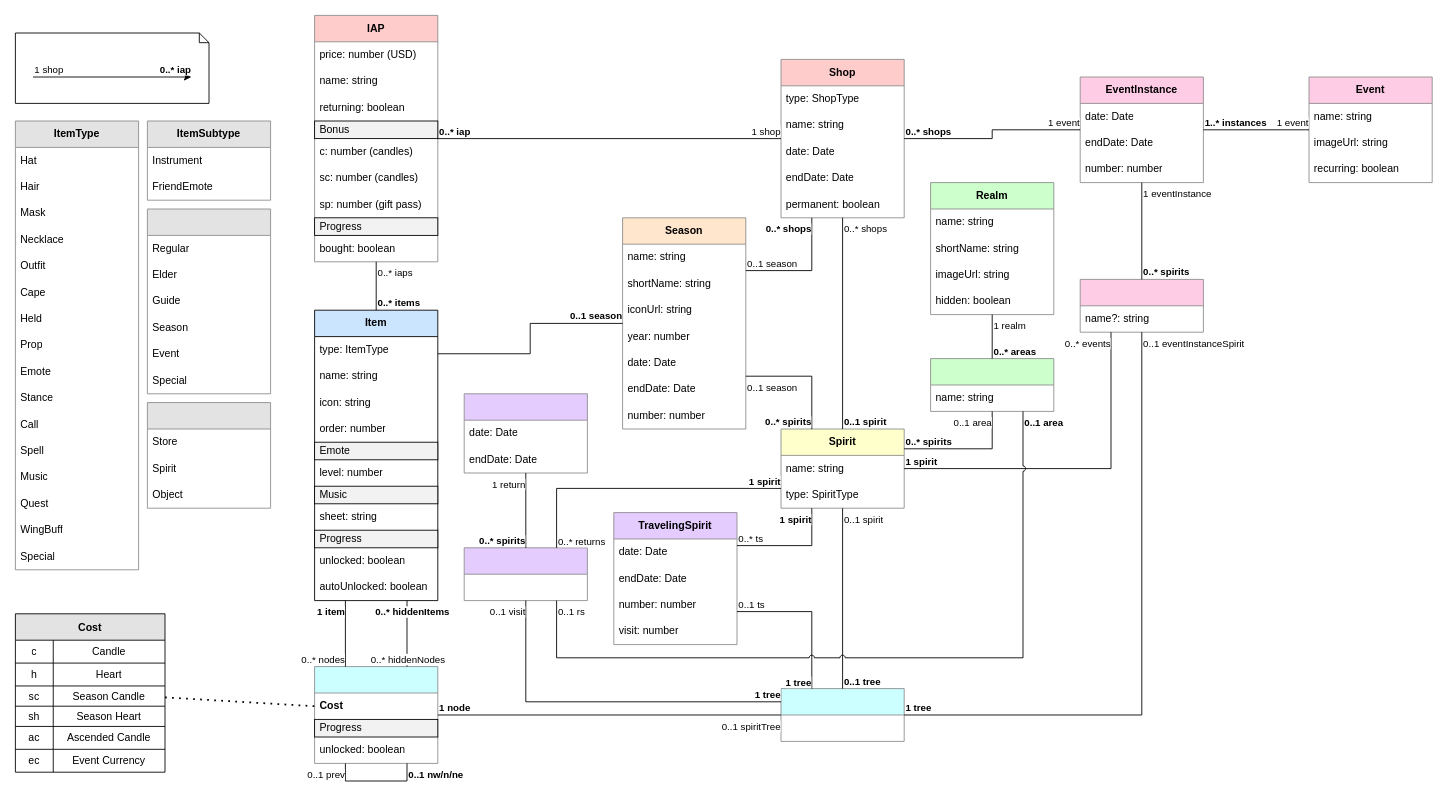
Image size: 1448x803. Some labels were removed from this diagram. Here are the shapes that lost their labels. From the top down, the box of each, then its label:
(15, 32, 209, 103): Relations in bold are stored in JSON.
(147, 208, 271, 394): SpiritType
(1079, 279, 1203, 332): EventInstanceSpirit
(930, 358, 1054, 411): Area
(463, 393, 587, 473): ReturningSpirits
(147, 402, 271, 508): ShopType
(463, 547, 587, 601): ReturningSpirit
(314, 666, 438, 763): Node
(780, 688, 904, 741): SpiritTree
